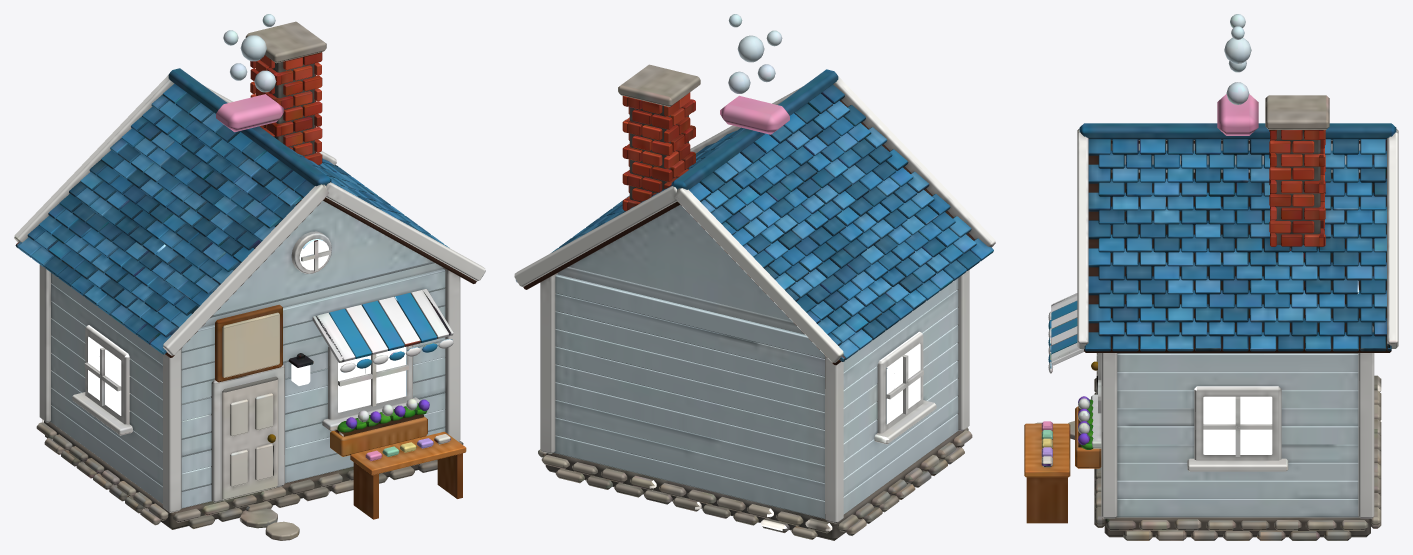
Rendered from soap_maker.glb.
The picture shows the model from 3 angles, left to right: view 1: azimuth 30°, elevation 25°; view 2: azimuth 150°, elevation 25°; view 3: azimuth 270°, elevation 25°; orthographic projection. The views are drawn at different scales.
Parts seen in each view (by area): view 1: soap_maker; view 2: soap_maker; view 3: soap_maker.
Boxes of the visible parts, x1,y1,x2,y2 form: soap_maker: (14,14,485,540); soap_maker: (514,14,995,540); soap_maker: (1024,14,1398,540).
Bounding box in the file's own units: 1.69 × 2.16 × 1.63.
1 material, 1 textured.
